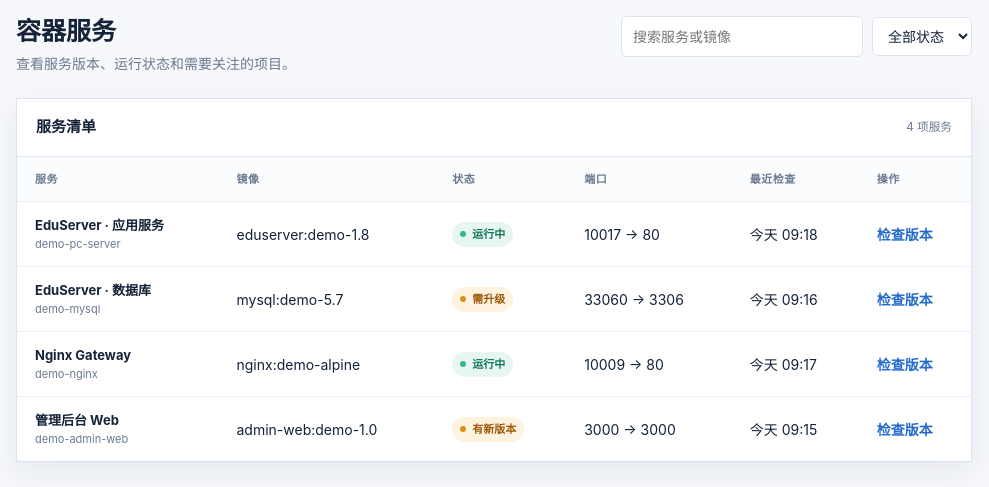
Test: services and audit filters › searches services by container or image and narrows the table
Expected: the number of rows is 5, top-left (17, 156), bottom-right (971, 202); top-left (17, 202), bottom-right (971, 266); top-left (17, 266), bottom-right (971, 332); top-left (17, 332), bottom-right (971, 396); top-left (17, 396), bottom-right (971, 461)
In the search field labelled "搜索服务或镜像": {"x": 742, "y": 36} top-left (621, 16), bottom-right (863, 57), type "demo-mysql"
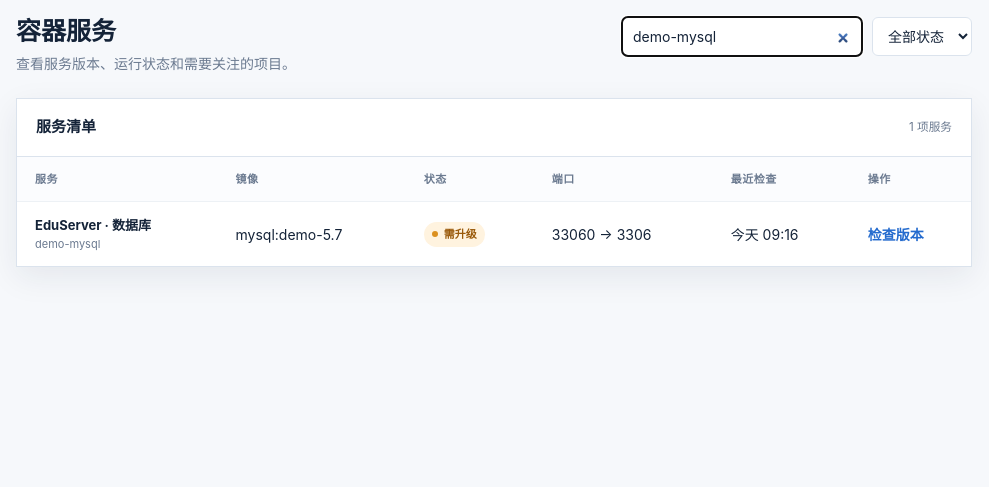
Expected: the text "EduServer · 数据库" is shown, top-left (35, 217), bottom-right (151, 233)
Result: the number of rows is 2 at top-left (17, 156), bottom-right (971, 202); top-left (17, 202), bottom-right (971, 266)
Result: the text "Nginx Gateway" is gone
